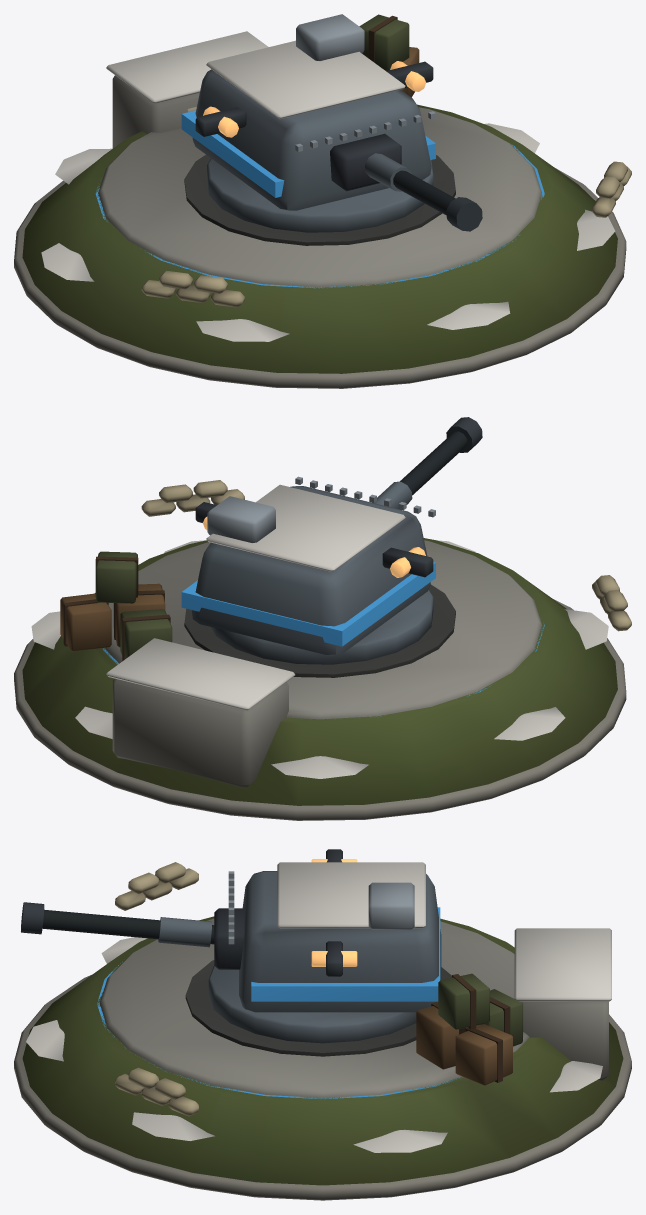
File: battery.glb
The picture shows the model from 3 angles, top to bottom: view 1: azimuth 30°, elevation 25°; view 2: azimuth 150°, elevation 25°; view 3: azimuth 270°, elevation 25°; orthographic projection.
Visible parts, largest first — view 1: battery_root_matte, battery_turret_metal, battery_turret_matte, battery_barrel_metal, battery_turret_trim, battery_root_trim, battery_turret_glass; view 2: battery_root_matte, battery_turret_metal, battery_turret_matte, battery_turret_trim, battery_barrel_metal; view 3: battery_root_matte, battery_turret_metal, battery_turret_matte, battery_barrel_metal, battery_turret_trim, battery_root_trim, battery_turret_glass.
Part boxes in pixels (x1=…): battery_root_matte: x1=14, y1=14, x2=631, y2=388; battery_turret_metal: x1=192, y1=14, x2=435, y2=232; battery_turret_matte: x1=206, y1=40, x2=405, y2=119; battery_barrel_metal: x1=365, y1=153, x2=482, y2=231; battery_turret_trim: x1=181, y1=110, x2=435, y2=197; battery_root_trim: x1=95, y1=143, x2=544, y2=288; battery_turret_glass: x1=203, y1=61, x2=426, y2=137; battery_root_matte: x1=14, y1=480, x2=631, y2=820; battery_turret_metal: x1=192, y1=476, x2=435, y2=664; battery_turret_matte: x1=206, y1=484, x2=405, y2=571; battery_turret_trim: x1=181, y1=562, x2=435, y2=646; battery_barrel_metal: x1=372, y1=417, x2=482, y2=509; battery_root_matte: x1=14, y1=862, x2=631, y2=1200; battery_turret_metal: x1=208, y1=849, x2=441, y2=1043; battery_turret_matte: x1=277, y1=862, x2=425, y2=928; battery_barrel_metal: x1=21, y1=902, x2=214, y2=947; battery_turret_trim: x1=251, y1=907, x2=440, y2=1001; battery_root_trim: x1=97, y1=961, x2=462, y2=1098; battery_turret_glass: x1=311, y1=859, x2=357, y2=966.
Size of the model in its own units: 10.8 by 3.85 by 10.8.
